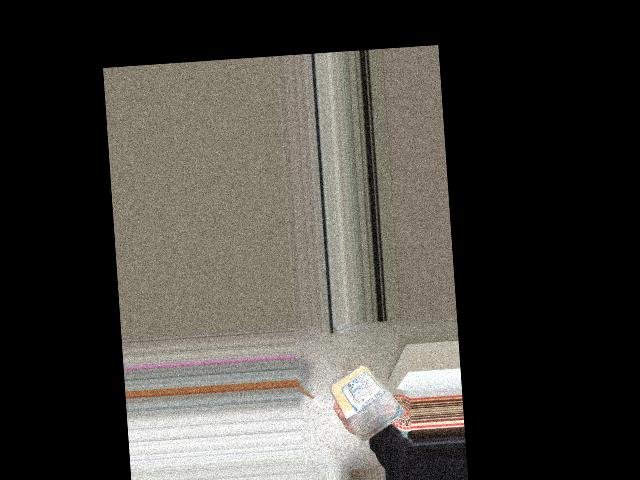cheese: (333, 360, 400, 435)
